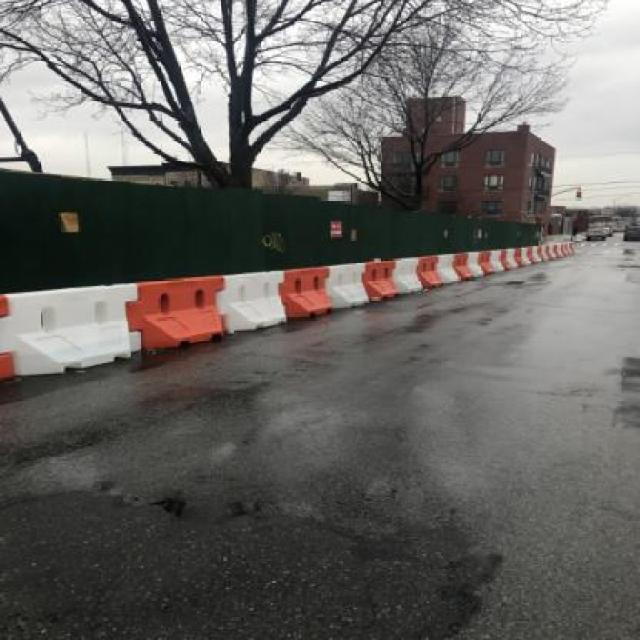fallen_object: (112, 252, 282, 347), (0, 275, 145, 368), (236, 250, 377, 308), (436, 226, 580, 276), (352, 245, 470, 298)
